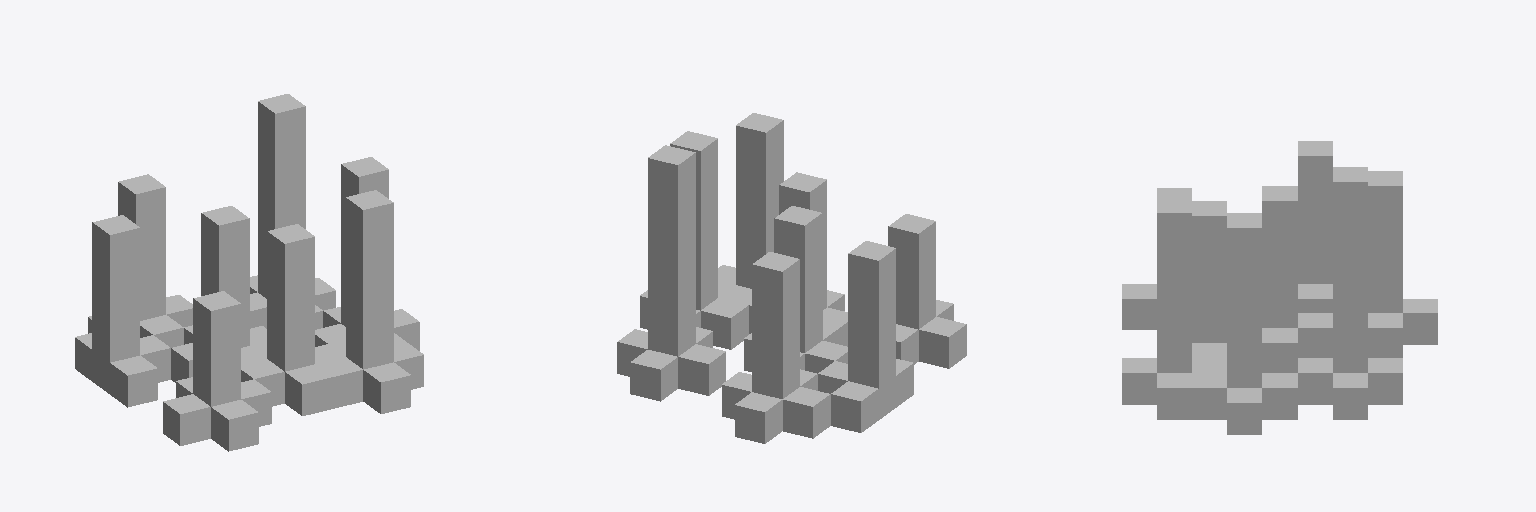
Rendered from Patch of Grass.obj.
3 views of the same model, side by side, from view 1: azimuth 30°, elevation 25°; view 2: azimuth 150°, elevation 25°; view 3: azimuth 270°, elevation 25° (orthographic).
Visible parts, largest first — view 1: object 1; view 2: object 1; view 3: object 1.
Boxes of the visible parts, <box> form: object 1: <box>75,94,423,451</box>; object 1: <box>617,113,966,443</box>; object 1: <box>1122,141,1437,434</box>.
Size of the model in its own units: 0.9 by 0.7 by 0.9.